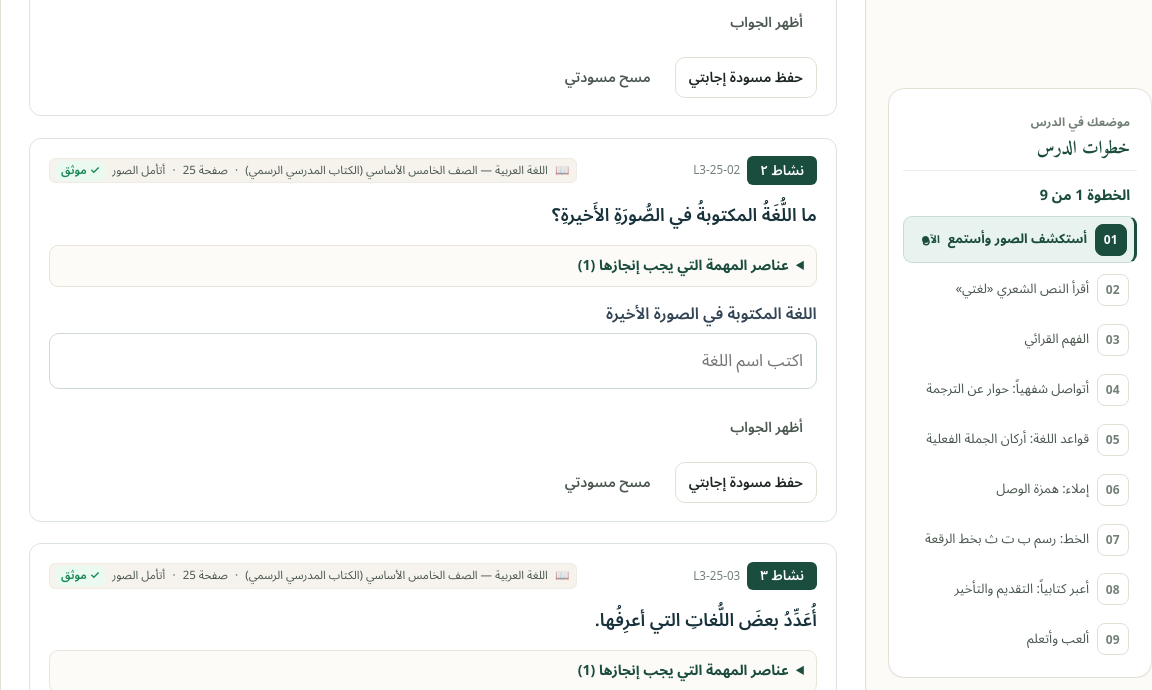
Scenario: Audit fix 3 — real draft saving and restoration (Lesson 3) › claims a saved draft only when storage succeeded, and supports reset
This screenshot has width=1152, height=690.
(page scrolled)
Type "العربية" into the field labelled "اللغة المكتوبة في الصورة الأخيرة" at x=433, y=361, box 49,333 -> 817,389
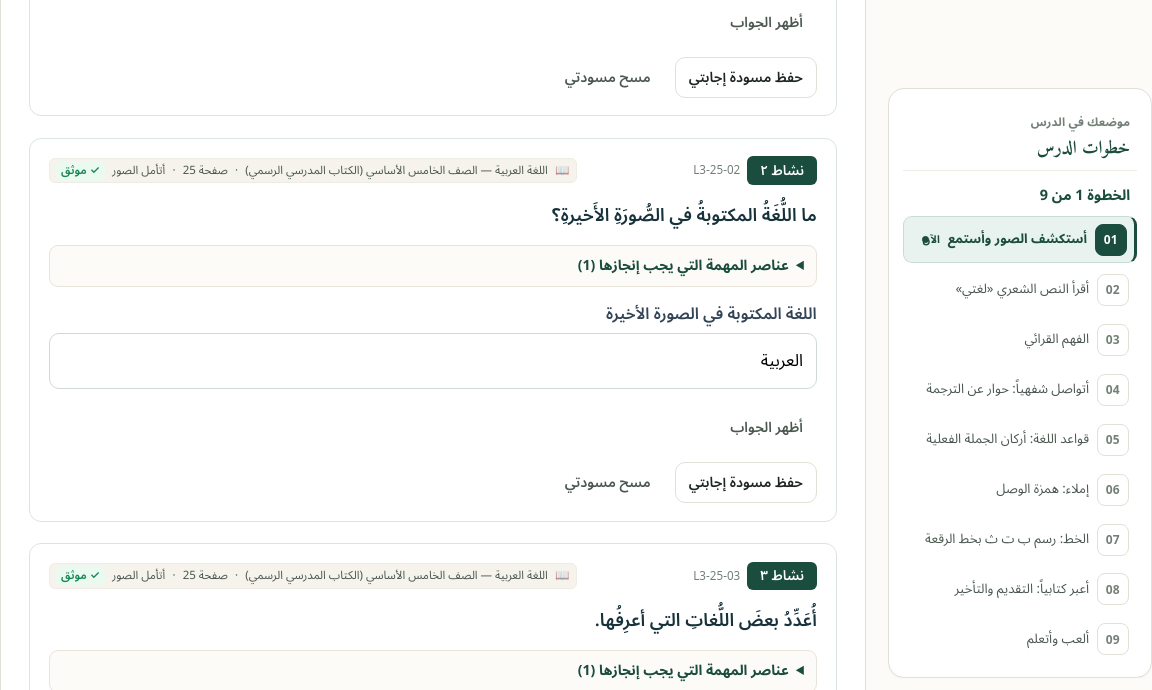
Click the button "حفظ مسودة إجابتي" below "اللغة المكتوبة في الصورة الأخيرة" at x=746, y=483, box 675,462 -> 817,503
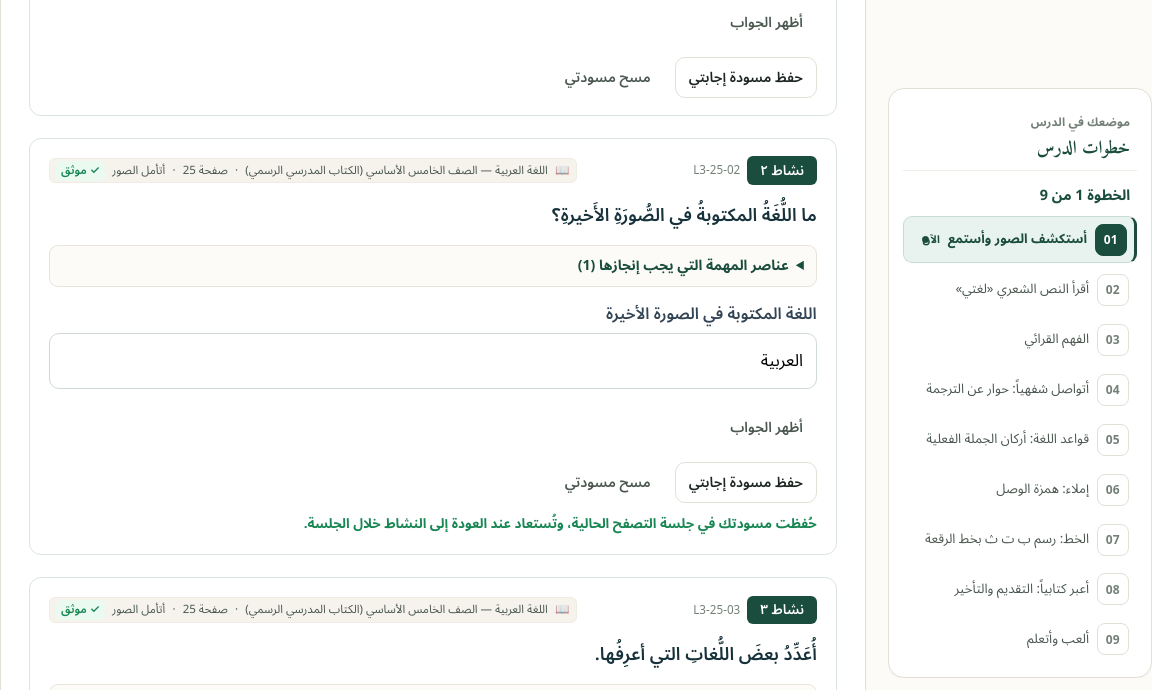
Now the message shows "حُفظت مسودتك في جلسة التصفح الحالية", box 304,510 -> 817,538
Click the button "مسح مسودتي" below "اللغة المكتوبة في الصورة الأخيرة" at x=608, y=483, box 551,462 -> 664,503
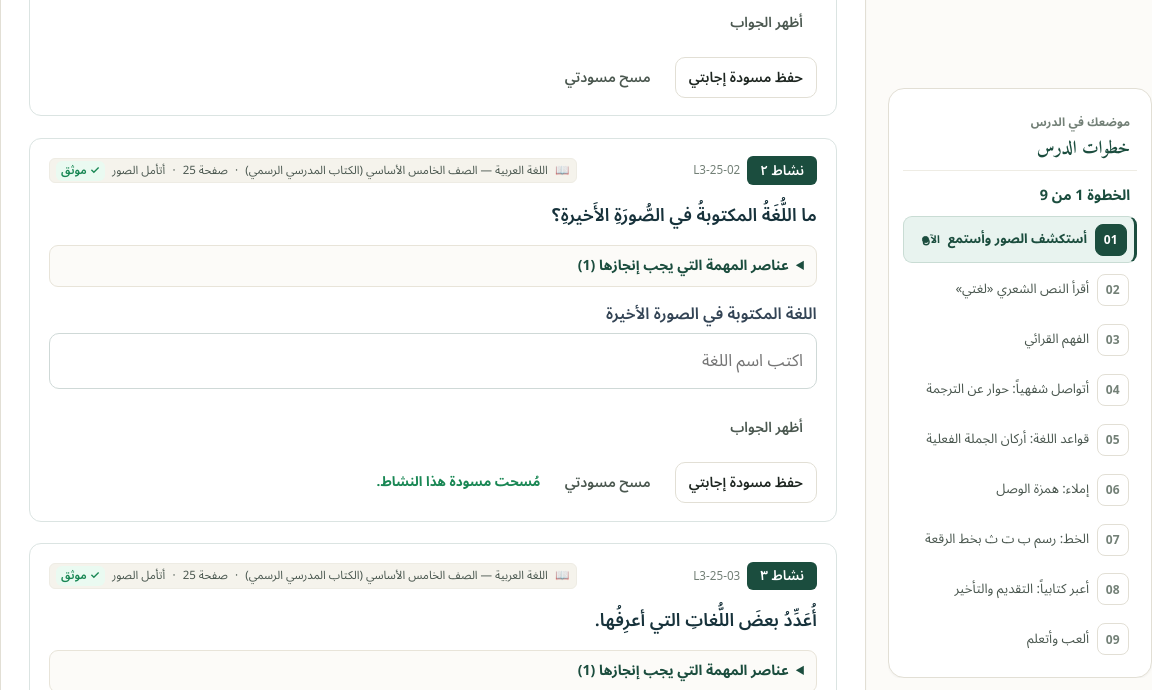
Now the field labelled "اللغة المكتوبة في الصورة الأخيرة" is empty, box 49,333 -> 817,389
Now the message shows "مُسحت مسودة هذا النشاط", box 377,468 -> 540,496
